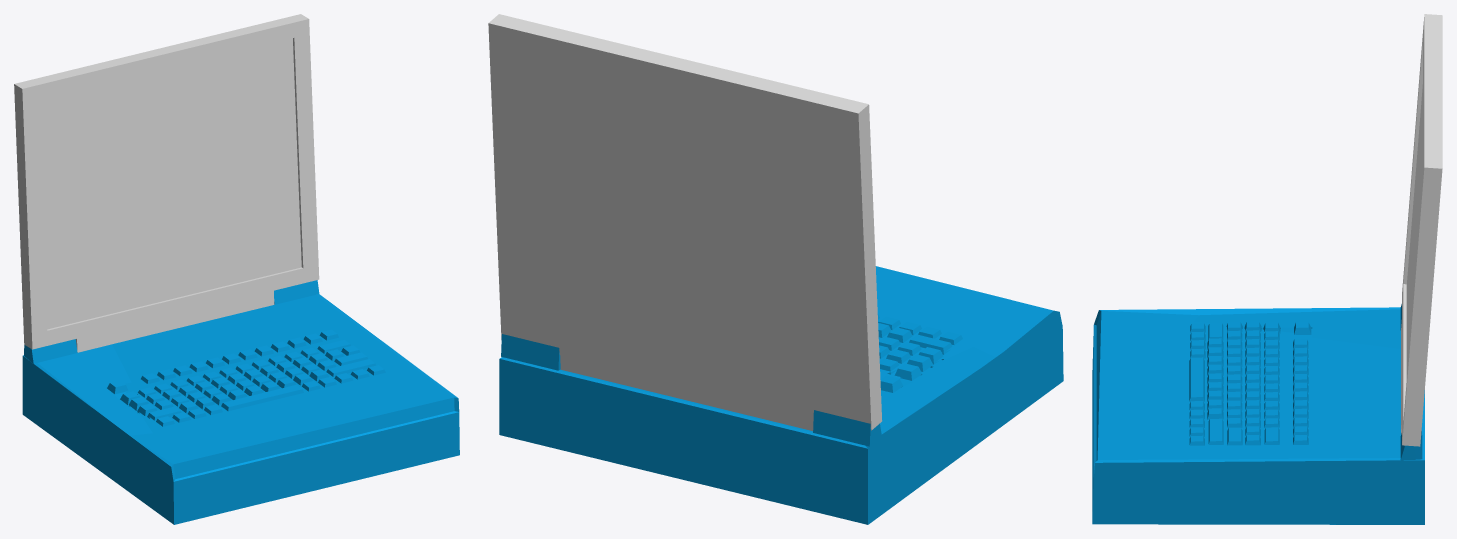
The model's file is Computer.fbx.
The picture shows the model from 3 angles, left to right: view 1: azimuth 30°, elevation 25°; view 2: azimuth 150°, elevation 25°; view 3: azimuth 270°, elevation 25°; orthographic projection. The views are drawn at different scales.
Visible parts, largest first — view 1: Monitor, Computer; view 2: Monitor, Computer; view 3: Computer, Monitor.
Boxes of the visible parts, x1,y1,x2,y2 form: Monitor: (14, 14, 319, 352); Computer: (22, 280, 459, 524); Monitor: (488, 14, 882, 431); Computer: (499, 266, 1063, 524); Computer: (1092, 304, 1424, 524); Monitor: (1401, 14, 1442, 446).
Bounding box in the file's own units: 400 × 446 × 385.
